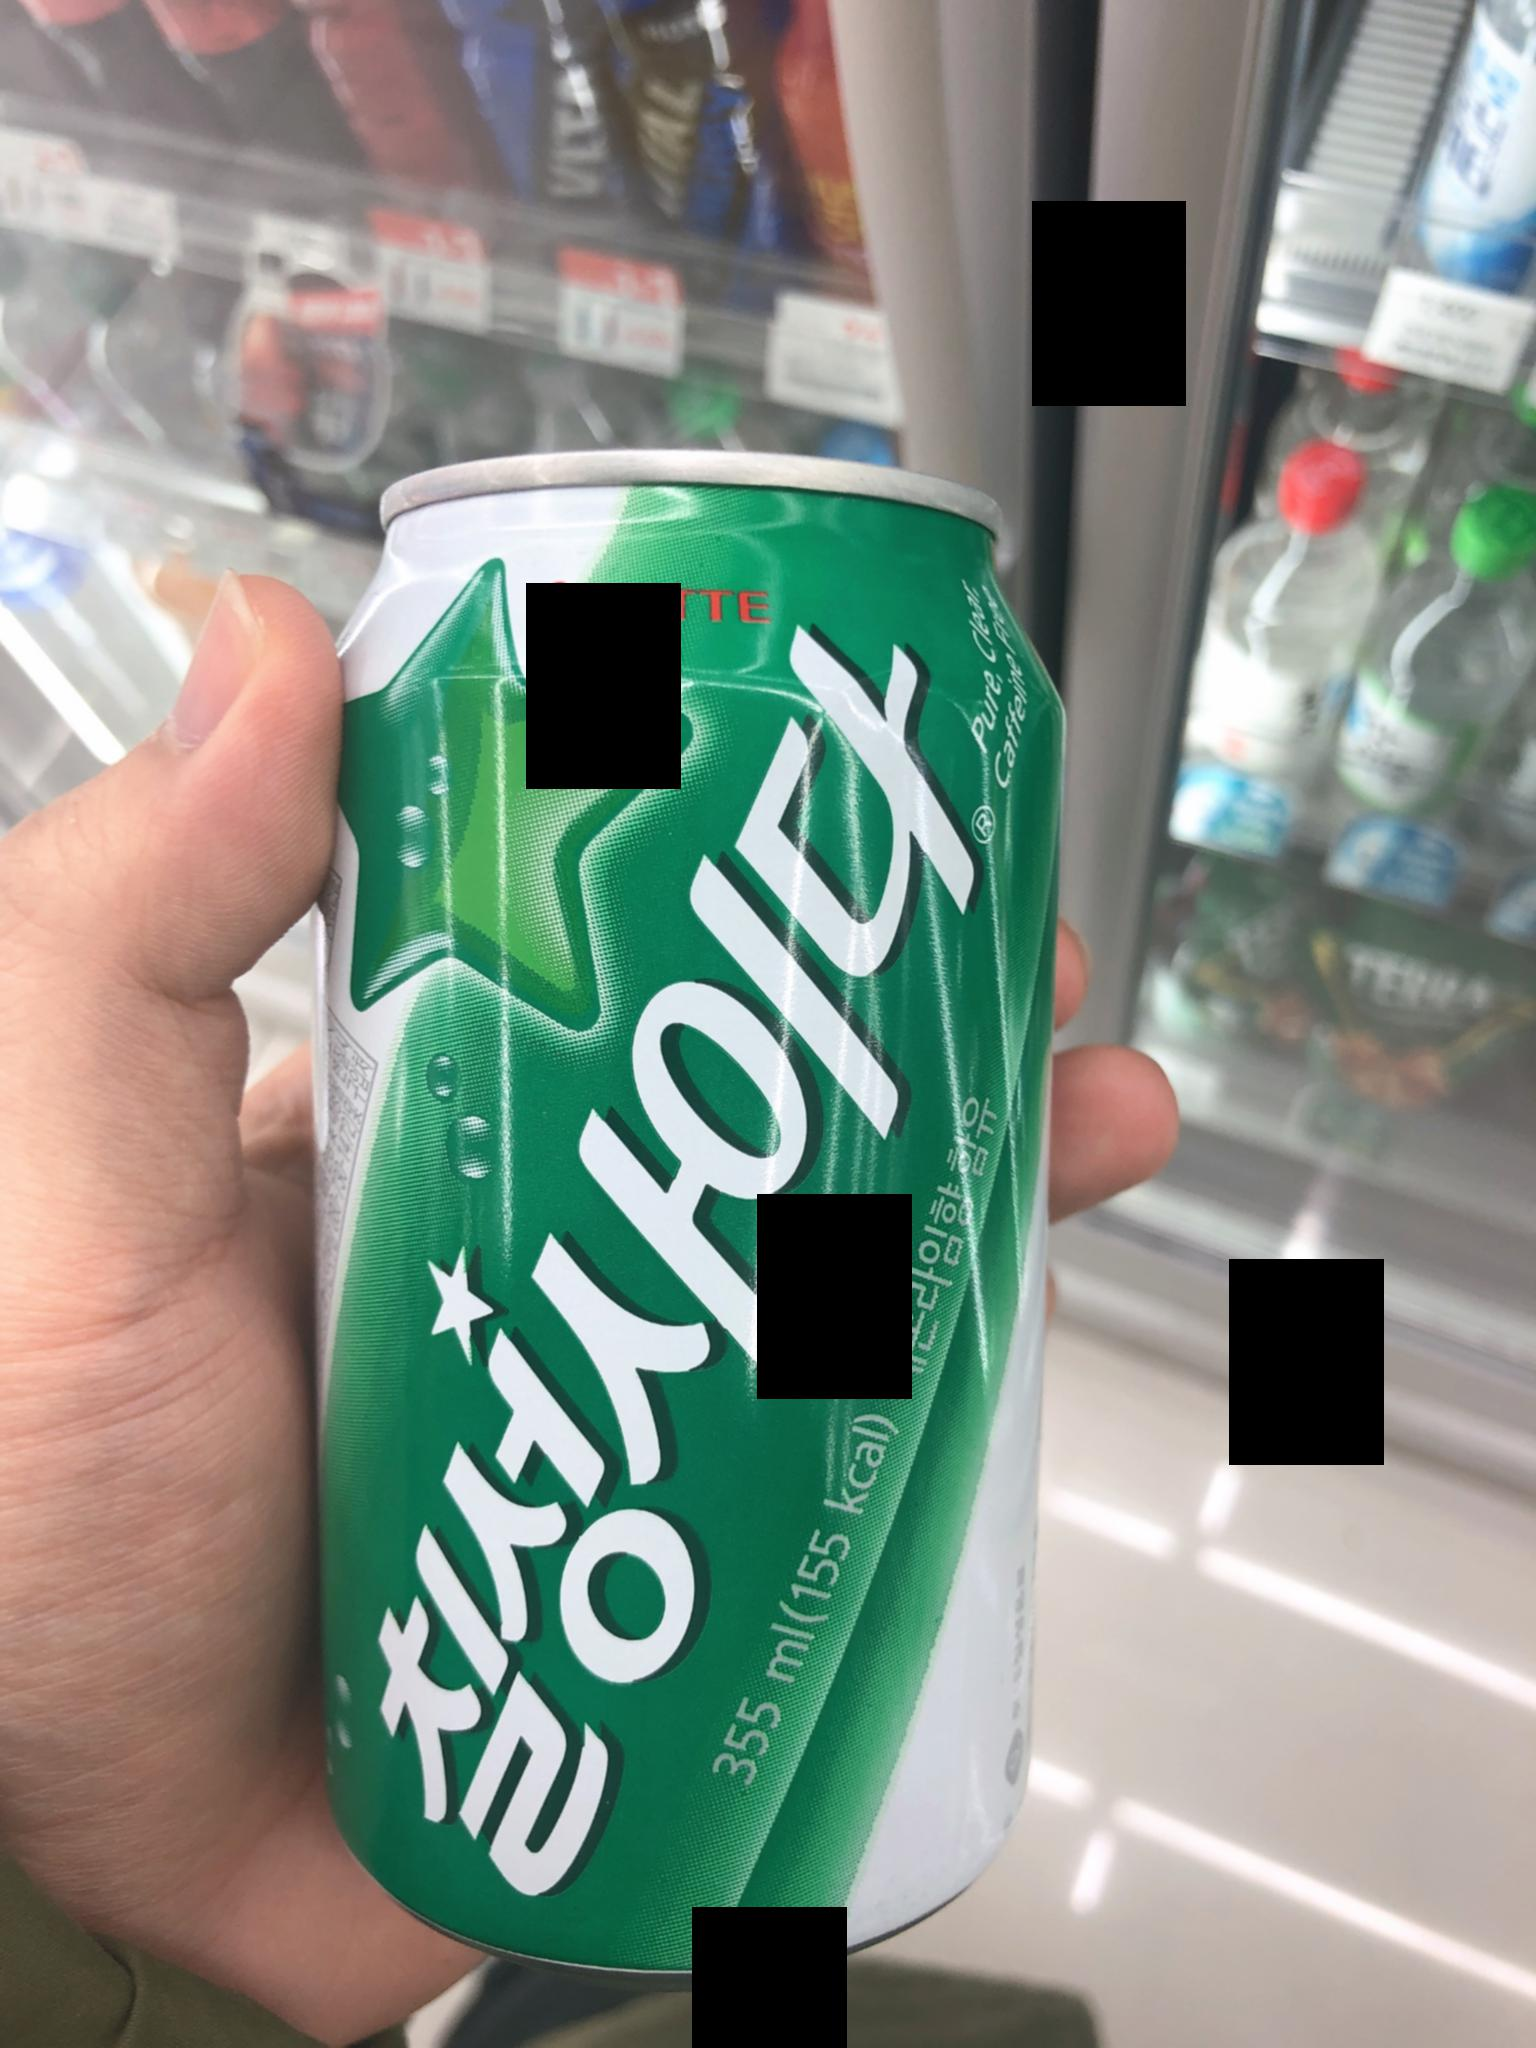chilsungcider: (224, 448, 1092, 2038)
